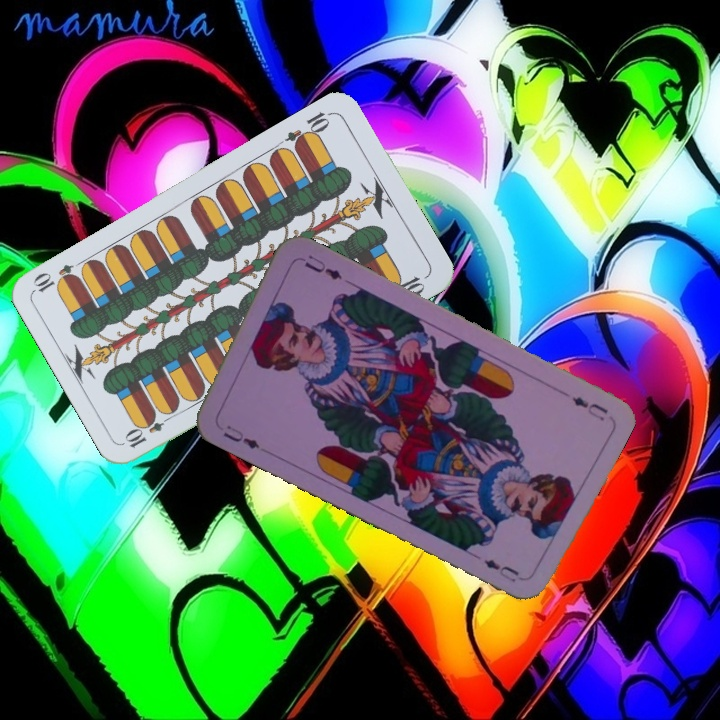E10: (281, 107, 335, 152), (121, 409, 176, 451)
EU: (219, 420, 263, 452), (567, 392, 611, 424)
